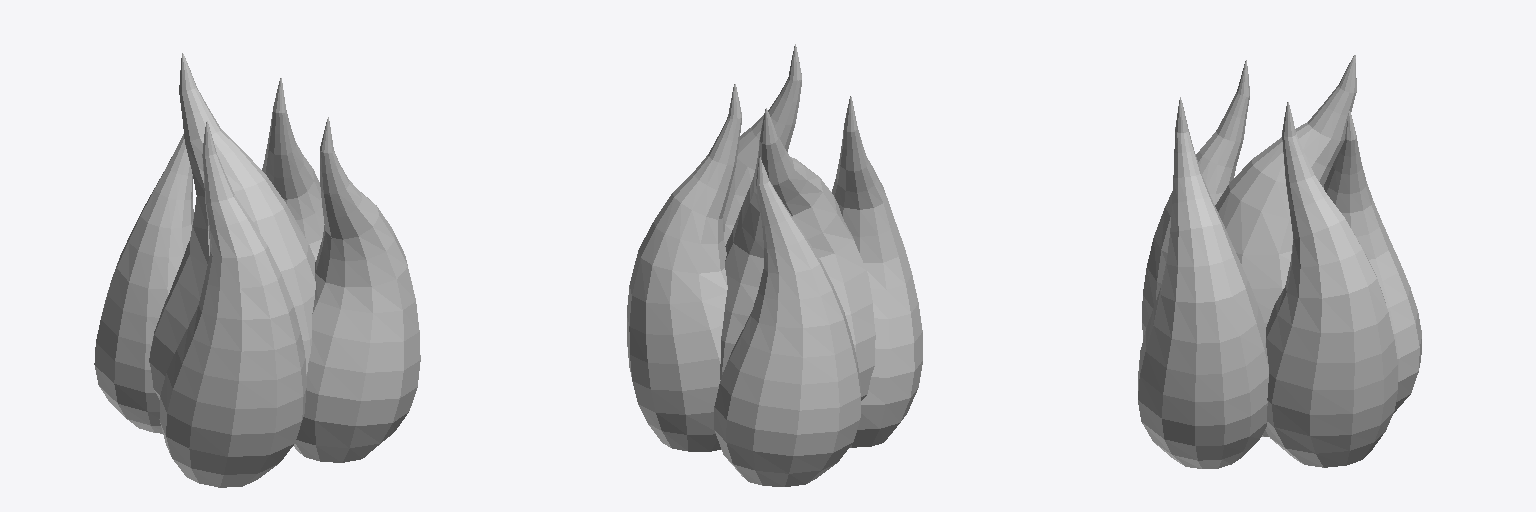
Rendered from fire_000057.obj.
The picture shows the model from 3 angles: view 1: azimuth 30°, elevation 25°; view 2: azimuth 150°, elevation 25°; view 3: azimuth 270°, elevation 25°; orthographic projection.
Parts seen in each view (by area): view 1: flame_NurbsPath.015; view 2: flame_NurbsPath.015; view 3: flame_NurbsPath.015.
Part boxes in pixels (x1,y1,x2,y2): flame_NurbsPath.015: (94,53,420,487); flame_NurbsPath.015: (627,44,922,486); flame_NurbsPath.015: (1138,55,1421,468).
Size of the model in its own units: 0.7643 by 1.15 by 0.7996.